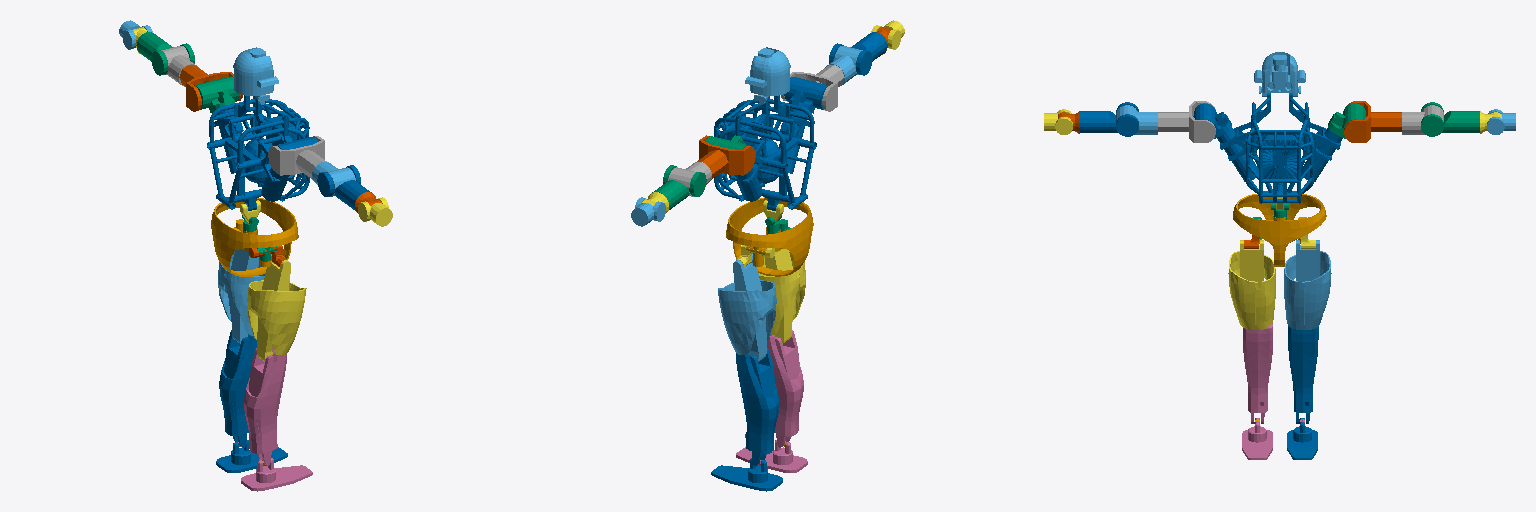
--- What the picture shows (computed from the rendered views, not written in the file) ---
3 views of the same robot in one strip: view 1: azimuth 30°, elevation 25°; view 2: azimuth 150°, elevation 25°; view 3: azimuth 270°, elevation 25° (orthographic).
Model drc_skeleton with 37 links and 36 joints (36 fixed), rooted at pelvis, posed every joint at zero.
Visible links, largest first — view 1: utorso, r_uleg, r_lleg, pelvis, l_lleg, l_uleg, head, r_scap, r_foot, l_clav, l_larm, l_foot (+5 smaller); view 2: utorso, l_uleg, l_lleg, pelvis, r_lleg, r_uleg, head, l_scap, l_foot, r_larm, r_clav, r_scap (+5 smaller); view 3: utorso, l_uleg, r_uleg, pelvis, r_lleg, l_lleg, head, r_scap, l_scap, l_larm, r_larm, r_foot (+7 smaller).
Link boxes in pixels (x1,y1,x2,y2): utorso: [207, 95, 309, 210]; r_uleg: [247, 254, 306, 361]; r_lleg: [244, 348, 286, 465]; pelvis: [211, 198, 298, 276]; l_lleg: [219, 330, 256, 447]; l_uleg: [218, 249, 264, 343]; head: [233, 47, 278, 104]; r_scap: [268, 136, 326, 179]; r_foot: [241, 458, 312, 491]; l_clav: [194, 76, 239, 112]; l_larm: [136, 32, 194, 75]; l_foot: [216, 440, 287, 472]; utorso: [714, 95, 816, 210]; l_uleg: [718, 254, 776, 361]; l_lleg: [736, 348, 779, 465]; pelvis: [726, 197, 813, 276]; r_lleg: [767, 330, 803, 447]; r_uleg: [759, 249, 805, 343]; head: [745, 47, 790, 104]; l_scap: [697, 135, 755, 179]; l_foot: [711, 458, 782, 491]; r_larm: [829, 32, 886, 75]; r_clav: [784, 77, 829, 113]; r_scap: [781, 65, 844, 111]; utorso: [1217, 93, 1342, 203]; l_uleg: [1284, 240, 1331, 329]; r_uleg: [1228, 240, 1275, 329]; pelvis: [1233, 194, 1326, 266]; r_lleg: [1243, 324, 1272, 423]; l_lleg: [1288, 325, 1318, 423]; head: [1254, 52, 1305, 96]; r_scap: [1158, 101, 1215, 142]; l_scap: [1344, 101, 1401, 142]; l_larm: [1421, 102, 1479, 136]; r_larm: [1080, 102, 1138, 136]; r_foot: [1242, 418, 1272, 459].
Bounding box of the posed robot: 0.3285 × 1.86 × 1.69 m (x, y, z).
29 mesh visuals loaded from 29 distinct referenced files (29 Collada DAE).

robot.urdf — drc_skeleton:
<robot name="drc_skeleton">
    <link name="pelvis">
        <inertial>
            <mass value="14.2529" />
            <origin xyz="0.0111 0 0.0271" rpy="0 -0 0" />
            <inertia ixx="0.1244" ixy="0.0008" ixz="-0.0007" iyy="0.0958" iyz="-0.0005" izz="0.1167" />
        </inertial>
        <visual>
            <origin xyz="0 0 0" rpy="0 -0 0" />
            <geometry>
                <mesh filename="package://mit_robot/meshes/pelvis.dae" scale="1 1 1" />
            </geometry>
        </visual>
    </link>
    <link name="head">
        <inertial>
            <mass value="2.6" />
            <origin xyz="-0.004 0 0.056" rpy="0 -0 0" />
            <inertia ixx="0.009" ixy="0" ixz="0" iyy="0.006" iyz="0" izz="0.007" />
        </inertial>
        <visual>
            <origin xyz="0 0 0" rpy="0 -0 0" />
            <geometry>
                <mesh filename="package://mit_robot/meshes/head.dae" scale="1 1 1" />
            </geometry>
        </visual>
    </link>
    <link name="l_clav">
        <inertial>
            <mass value="2.369" />
            <origin xyz="0.014 0.058 0.029" rpy="0 -0 0" />
            <inertia ixx="0.004" ixy="0.001" ixz="0" iyy="0.006" iyz="0" izz="0.007" />
        </inertial>
        <visual>
            <origin xyz="0 0 0" rpy="0 -0 0" />
            <geometry>
                <mesh filename="package://mit_robot/meshes/l_clav.dae" scale="1 1 1" />
            </geometry>
        </visual>
    </link>
    <link name="l_farm">
        <inertial>
            <mass value="0.981" />
            <origin xyz="0 0.041 0" rpy="0 -0 0" />
            <inertia ixx="0.003" ixy="0" ixz="0" iyy="0.001" iyz="0" izz="0.003" />
        </inertial>
        <visual>
            <origin xyz="0 0 0" rpy="0 -0 0" />
            <geometry>
                <mesh filename="package://mit_robot/meshes/l_farm.dae" scale="1 1 1" />
            </geometry>
        </visual>
    </link>
    <link name="l_foot">
        <inertial>
            <mass value="1.634" />
            <origin xyz="0.027 0 -0.067" rpy="0 -0 0" />
            <inertia ixx="0.002" ixy="0" ixz="0" iyy="0.007" iyz="0" izz="0.008" />
        </inertial>
        <visual>
            <origin xyz="0 0 0" rpy="0 -0 0" />
            <geometry>
                <mesh filename="package://mit_robot/meshes/l_foot.dae" scale="1 1 1" />
            </geometry>
        </visual>
    </link>
    <link name="l_foot_c1">   
	    <inertial>
            <mass value="0.001" />
            <origin xyz="0 0 0" rpy="0 0 0" />
            <inertia ixx="0.001" ixy="0" ixz="0" iyy="0.001" iyz="0" izz="0.001" />
        </inertial>
        <visual>
	  	  <origin rpy="0 0 0" xyz="0 0 0"/>
	  	  <geometry>
	    	<sphere radius="0.001"/>
	  	  </geometry>
		</visual>
        <collision>
	  	  <origin rpy="0 0 0" xyz="0 0 0"/>
	  	  <geometry>
	    	<sphere radius="0.001"/>
	  	  </geometry>
		</collision>
	</link>
    <link name="l_foot_c2">   
	    <inertial>
            <mass value="0.001" />
            <origin xyz="0 0 0" rpy="0 0 0" />
            <inertia ixx="0.001" ixy="0" ixz="0" iyy="0.001" iyz="0" izz="0.001" />
        </inertial>
        <visual>
	  	  <origin rpy="0 0 0" xyz="0 0 0"/>
	  	  <geometry>
	    	<sphere radius="0.001"/>
	  	  </geometry>
		</visual>
        <collision>
	  	  <origin rpy="0 0 0" xyz="0 0 0"/>
	  	  <geometry>
	    	<sphere radius="0.001"/>
	  	  </geometry>
		</collision>
	</link>
    <link name="l_foot_c3">   
	    <inertial>
            <mass value="0.001" />
            <origin xyz="0 0 0" rpy="0 0 0" />
            <inertia ixx="0.001" ixy="0" ixz="0" iyy="0.001" iyz="0" izz="0.001" />
        </inertial>
        <visual>
	  	  <origin rpy="0 0 0" xyz="0 0 0"/>
	  	  <geometry>
	    	<sphere radius="0.001"/>
	  	  </geometry>
		</visual>
        <collision>
	  	  <origin rpy="0 0 0" xyz="0 0 0"/>
	  	  <geometry>
	    	<sphere radius="0.001"/>
	  	  </geometry>
		</collision>
	</link>
    <link name="l_foot_c4">   
	    <inertial>
            <mass value="0.001" />
            <origin xyz="0 0 0" rpy="0 0 0" />
            <inertia ixx="0.001" ixy="0" ixz="0" iyy="0.001" iyz="0" izz="0.001" />
        </inertial>
        <visual>
	  	  <origin rpy="0 0 0" xyz="0 0 0"/>
	  	  <geometry>
	    	<sphere radius="0.001"/>
	  	  </geometry>
		</visual>
        <collision>
	  	  <origin rpy="0 0 0" xyz="0 0 0"/>
	  	  <geometry>
	    	<sphere radius="0.001"/>
	  	  </geometry>
		</collision>
	</link>
    <link name="l_hand">
        <inertial>
            <mass value="2.263" />
            <origin xyz="0 0.093 0" rpy="0 -0 0" />
            <inertia ixx="0.01" ixy="0" ixz="0" iyy="0.002" iyz="0" izz="0.01" />
        </inertial>
        <visual>
            <origin xyz="0 0 0" rpy="0 -0 0" />
            <geometry>
                <mesh filename="package://mit_robot/meshes/l_hand.dae" scale="1 1 1" />
            </geometry>
        </visual>
    </link>
    <link name="l_larm">
        <inertial>
            <mass value="2.148" />
            <origin xyz="-0.003 0.099 -0.014" rpy="0 -0 0" />
            <inertia ixx="0.005" ixy="0" ixz="0" iyy="0.003" iyz="0" izz="0.006" />
        </inertial>
        <visual>
            <origin xyz="0 0 0" rpy="0 -0 0" />
            <geometry>
                <mesh filename="package://mit_robot/meshes/l_larm.dae" scale="1 1 1" />
            </geometry>
        </visual>
    </link>
    <link name="l_lglut">
        <inertial>
            <mass value="0.69" />
            <origin xyz="0.0133341 0.0170484 -0.0312052" rpy="0 -0 0" />
            <inertia ixx="0.000691326" ixy="-2.24344e-05" ixz="2.50508e-06" iyy="0.00126856" iyz="0.000137862" izz="0.00106487" />
        </inertial>
        <visual>
            <origin xyz="0 0 0" rpy="0 -0 0" />
            <geometry>
                <mesh filename="package://mit_robot/meshes/l_lglut.dae" scale="1 1 1" />
            </geometry>
        </visual>
    </link>
    <link name="l_lleg">
        <inertial>
            <mass value="4.367" />
            <origin xyz="0.001 0 -0.187" rpy="0 -0 0" />
            <inertia ixx="0.077" ixy="0" ixz="-0.003" iyy="0.076" iyz="0" izz="0.01" />
        </inertial>
        <visual>
            <origin xyz="0 0 0" rpy="0 -0 0" />
            <geometry>
                <mesh filename="package://mit_robot/meshes/l_lleg.dae" scale="1 1 1" />
            </geometry>
        </visual>
    </link>
    <link name="l_scap">
        <inertial>
            <mass value="2.707" />
            <origin xyz="-0.002 0.108 0" rpy="0 -0 0" />
            <inertia ixx="0.01" ixy="0" ixz="0" iyy="0.005" iyz="0" izz="0.013" />
        </inertial>
        <visual>
            <origin xyz="0 0 0" rpy="0 -0 0" />
            <geometry>
                <mesh filename="package://mit_robot/meshes/l_scap.dae" scale="1 1 1" />
            </geometry>
        </visual>
    </link>
    <link name="l_talus">
        <inertial>
            <mass value="0.1" />
            <origin xyz="0 0 0" rpy="0 -0 0" />
            <inertia ixx="1.01674e-05" ixy="0" ixz="0" iyy="8.42775e-06" iyz="0" izz="1.30101e-05" />
        </inertial>
        <visual>
            <origin xyz="0 0 0" rpy="0 -0 0" />
            <geometry>
                <mesh filename="package://mit_robot/meshes/l_talus.dae" scale="1 1 1" />
            </geometry>
        </visual>
    </link>
    <link name="l_uarm">
        <inertial>
            <mass value="1.881" />
            <origin xyz="0.007 0.114 0.008" rpy="0 -0 0" />
            <inertia ixx="0.002" ixy="0" ixz="0" iyy="0.003" iyz="0" izz="0.003" />
        </inertial>
        <visual>
            <origin xyz="0 0 0" rpy="0 -0 0" />
            <geometry>
                <mesh filename="package://mit_robot/meshes/l_uarm.dae" scale="1 1 1" />
            </geometry>
        </visual>
    </link>
    <link name="l_uglut">
        <inertial>
            <mass value="0.5166" />
            <origin xyz="0.00529262 -0.00344732 0.00313046" rpy="0 -0 0" />
            <inertia ixx="0.00074276" ixy="-3.79607e-08" ixz="-2.79549e-05" iyy="0.000688179" iyz="-3.2735e-08" izz="0.00041242" />
        </inertial>
        <visual>
            <origin xyz="0 0 0" rpy="0 -0 0" />
            <geometry>
                <mesh filename="package://mit_robot/meshes/l_uglut.dae" scale="1 1 1" />
            </geometry>
        </visual>
    </link>
    <link name="l_uleg">
        <inertial>
            <mass value="7.34" />
            <origin xyz="0 0 -0.21" rpy="0 -0 0" />
            <inertia ixx="0.09" ixy="0" ixz="0" iyy="0.09" iyz="0" izz="0.02" />
        </inertial>
        <visual>
            <origin xyz="0 0 0" rpy="0 -0 0" />
            <geometry>
                <mesh filename="package://mit_robot/meshes/l_uleg.dae" scale="1 1 1" />
            </geometry>
        </visual>
    </link>
    <link name="ltorso">
        <inertial>
            <mass value="1.92" />
            <origin xyz="-0.0112984 -3.15366e-06 0.0746835" rpy="0 -0 0" />
            <inertia ixx="0.0039092" ixy="-5.04491e-08" ixz="-0.000342157" iyy="0.00341694" iyz="4.87119e-07" izz="0.00174492" />
        </inertial>
        <visual>
            <origin xyz="0 0 0" rpy="0 -0 0" />
            <geometry>
                <mesh filename="package://mit_robot/meshes/ltorso.dae" scale="1 1 1" />
            </geometry>
        </visual>
    </link>
    <link name="mtorso">
        <inertial>
            <mass value="0.55" />
            <origin xyz="-0.00816266 -0.0131245 0.0305974" rpy="0 -0 0" />
            <inertia ixx="0.000454181" ixy="-6.10764e-05" ixz="3.94009e-05" iyy="0.000483282" iyz="5.27463e-05" izz="0.000444215" />
        </inertial>
        <visual>
            <origin xyz="0 0 0" rpy="0 -0 0" />
            <geometry>
                <mesh filename="package://mit_robot/meshes/mtorso.dae" scale="1 1 1" />
            </geometry>
        </visual>
    </link>
    <link name="r_clav">
        <inertial>
            <mass value="2.369" />
            <origin xyz="0.014 -0.058 0.029" rpy="0 -0 0" />
            <inertia ixx="0.004" ixy="-0.001" ixz="0" iyy="0.006" iyz="0" izz="0.007" />
        </inertial>
        <visual>
            <origin xyz="0 0 0" rpy="0 -0 0" />
            <geometry>
                <mesh filename="package://mit_robot/meshes/r_clav.dae" scale="1 1 1" />
            </geometry>
        </visual>
    </link>
    <link name="r_farm">
        <inertial>
            <mass value="0.981" />
            <origin xyz="0 -0.041 0" rpy="0 -0 0" />
            <inertia ixx="0.003" ixy="0" ixz="0" iyy="0.001" iyz="0" izz="0.003" />
        </inertial>
        <visual>
            <origin xyz="0 0 0" rpy="0 -0 0" />
            <geometry>
                <mesh filename="package://mit_robot/meshes/r_farm.dae" scale="1 1 1" />
            </geometry>
        </visual>
    </link>
    <link name="r_foot">
        <inertial>
            <mass value="1.634" />
            <origin xyz="0.027 0 -0.067" rpy="0 -0 0" />
            <inertia ixx="0.002" ixy="0" ixz="0" iyy="0.007" iyz="0" izz="0.008" />
        </inertial>
        <visual>
            <origin xyz="0 0 0" rpy="0 -0 0" />
            <geometry>
                <mesh filename="package://mit_robot/meshes/r_foot.dae" scale="1 1 1" />
            </geometry>
        </visual>
    </link>
    <link name="r_foot_c1">   
	    <inertial>
            <mass value="0.001" />
            <origin xyz="0 0 0" rpy="0 0 0" />
            <inertia ixx="0.001" ixy="0" ixz="0" iyy="0.001" iyz="0" izz="0.001" />
        </inertial>
        <visual>
	  	  <origin rpy="0 0 0" xyz="0 0 0"/>
	  	  <geometry>
	    	<sphere radius="0.001"/>
	  	  </geometry>
		</visual>
        <collision>
	  	  <origin rpy="0 0 0" xyz="0 0 0"/>
	  	  <geometry>
	    	<sphere radius="0.001"/>
	  	  </geometry>
		</collision>
	</link>
    <link name="r_foot_c2">   
	    <inertial>
            <mass value="0.001" />
            <origin xyz="0 0 0" rpy="0 0 0" />
            <inertia ixx="0.001" ixy="0" ixz="0" iyy="0.001" iyz="0" izz="0.001" />
        </inertial>
        <visual>
	  	  <origin rpy="0 0 0" xyz="0 0 0"/>
	  	  <geometry>
	    	<sphere radius="0.001"/>
	  	  </geometry>
		</visual>
        <collision>
	  	  <origin rpy="0 0 0" xyz="0 0 0"/>
	  	  <geometry>
	    	<sphere radius="0.001"/>
	  	  </geometry>
		</collision>
	</link>
    <link name="r_foot_c3">   
	    <inertial>
            <mass value="0.001" />
            <origin xyz="0 0 0" rpy="0 0 0" />
            <inertia ixx="0.001" ixy="0" ixz="0" iyy="0.001" iyz="0" izz="0.001" />
        </inertial>
        <visual>
	  	  <origin rpy="0 0 0" xyz="0 0 0"/>
	  	  <geometry>
	    	<sphere radius="0.001"/>
	  	  </geometry>
		</visual>
        <collision>
	  	  <origin rpy="0 0 0" xyz="0 0 0"/>
	  	  <geometry>
	    	<sphere radius="0.001"/>
	  	  </geometry>
		</collision>
	</link>
    <link name="r_foot_c4">   
	    <inertial>
            <mass value="0.001" />
            <origin xyz="0 0 0" rpy="0 0 0" />
            <inertia ixx="0.001" ixy="0" ixz="0" iyy="0.001" iyz="0" izz="0.001" />
        </inertial>
        <visual>
	  	  <origin rpy="0 0 0" xyz="0 0 0"/>
	  	  <geometry>
	    	<sphere radius="0.001"/>
	  	  </geometry>
		</visual>
        <collision>
	  	  <origin rpy="0 0 0" xyz="0 0 0"/>
	  	  <geometry>
	    	<sphere radius="0.001"/>
	  	  </geometry>
		</collision>
	</link>
    <link name="r_hand">
        <inertial>
            <mass value="2.263" />
            <origin xyz="0 -0.093 0" rpy="0 -0 0" />
            <inertia ixx="0.01" ixy="0" ixz="0" iyy="0.002" iyz="0" izz="0.01" />
        </inertial>
        <visual>
            <origin xyz="0 0 0" rpy="0 -0 0" />
            <geometry>
                <mesh filename="package://mit_robot/meshes/r_hand.dae" scale="1 1 1" />
            </geometry>
        </visual>
    </link>
    <link name="r_larm">
        <inertial>
            <mass value="2.148" />
            <origin xyz="-0.003 -0.099 -0.014" rpy="0 -0 0" />
            <inertia ixx="0.005" ixy="0" ixz="0" iyy="0.003" iyz="0" izz="0.006" />
        </inertial>
        <visual>
            <origin xyz="0 0 0" rpy="0 -0 0" />
            <geometry>
                <mesh filename="package://mit_robot/meshes/r_larm.dae" scale="1 1 1" />
            </geometry>
        </visual>
    </link>
    <link name="r_lglut">
        <inertial>
            <mass value="0.69" />
            <origin xyz="0.0133341 -0.0170484 -0.0312052" rpy="0 -0 0" />
            <inertia ixx="0.000691326" ixy="2.24344e-05" ixz="2.50508e-06" iyy="0.00126856" iyz="-0.000137862" izz="0.00106487" />
        </inertial>
        <visual>
            <origin xyz="0 0 0" rpy="0 -0 0" />
            <geometry>
                <mesh filename="package://mit_robot/meshes/r_lglut.dae" scale="1 1 1" />
            </geometry>
        </visual>
    </link>
    <link name="r_lleg">
        <inertial>
            <mass value="4.367" />
            <origin xyz="0.001 0 -0.187" rpy="0 -0 0" />
            <inertia ixx="0.077" ixy="-0" ixz="-0.003" iyy="0.076" iyz="-0" izz="0.01" />
        </inertial>
        <visual>
            <origin xyz="0 0 0" rpy="0 -0 0" />
            <geometry>
                <mesh filename="package://mit_robot/meshes/r_lleg.dae" scale="1 1 1" />
            </geometry>
        </visual>
    </link>
    <link name="r_scap">
        <inertial>
            <mass value="2.707" />
            <origin xyz="-0.002 -0.108 0" rpy="0 -0 0" />
            <inertia ixx="0.01" ixy="0" ixz="0" iyy="0.005" iyz="0" izz="0.013" />
        </inertial>
        <visual>
            <origin xyz="0 0 0" rpy="0 -0 0" />
            <geometry>
                <mesh filename="package://mit_robot/meshes/r_scap.dae" scale="1 1 1" />
            </geometry>
        </visual>
    </link>
    <link name="r_talus">
        <inertial>
            <mass value="0.1" />
            <origin xyz="0 0 0" rpy="0 -0 0" />
            <inertia ixx="1.01674e-05" ixy="0" ixz="0" iyy="8.42775e-06" iyz="0" izz="1.30101e-05" />
        </inertial>
        <visual>
            <origin xyz="0 0 0" rpy="0 -0 0" />
            <geometry>
                <mesh filename="package://mit_robot/meshes/r_talus.dae" scale="1 1 1" />
            </geometry>
        </visual>
    </link>
    <link name="r_uarm">
        <inertial>
            <mass value="1.881" />
            <origin xyz="0.007 -0.114 0.008" rpy="0 -0 0" />
            <inertia ixx="0.002" ixy="0" ixz="0" iyy="0.003" iyz="0" izz="0.003" />
        </inertial>
        <visual>
            <origin xyz="0 0 0" rpy="0 -0 0" />
            <geometry>
                <mesh filename="package://mit_robot/meshes/r_uarm.dae" scale="1 1 1" />
            </geometry>
        </visual>
    </link>
    <link name="r_uglut">
        <inertial>
            <mass value="0.5166" />
            <origin xyz="0.00529262 0.00344732 0.00313046" rpy="0 -0 0" />
            <inertia ixx="0.00074276" ixy="3.79607e-08" ixz="-2.79549e-05" iyy="0.000688179" iyz="3.2735e-08" izz="0.00041242" />
        </inertial>
        <visual>
            <origin xyz="0 0 0" rpy="0 -0 0" />
            <geometry>
                <mesh filename="package://mit_robot/meshes/r_uglut.dae" scale="1 1 1" />
            </geometry>
        </visual>
    </link>
    <link name="r_uleg">
        <inertial>
            <mass value="7.34" />
            <origin xyz="0 0 -0.21" rpy="0 -0 0" />
            <inertia ixx="0.09" ixy="0" ixz="0" iyy="0.09" iyz="0" izz="0.02" />
        </inertial>
        <visual>
            <origin xyz="0 0 0" rpy="0 -0 0" />
            <geometry>
                <mesh filename="package://mit_robot/meshes/r_uleg.dae" scale="1 1 1" />
            </geometry>
        </visual>
    </link>
    <link name="utorso">
        <inertial>
            <mass value="18.484" />
            <origin xyz="0.02 -0.001 0.211" rpy="0 -0 0" />
            <inertia ixx="0.395" ixy="0" ixz="0.083" iyy="1.089" iyz="-0.003" izz="0.327" />
        </inertial>
        <visual>
            <origin xyz="0 0 0" rpy="0 -0 0" />
            <geometry>
                <mesh filename="package://mit_robot/meshes/utorso.dae" scale="1 1 1" />
            </geometry>
        </visual>
    </link>
    <joint name="back_lbz" type="fixed">
        <origin xyz="-0.0125 0 0" rpy="0 -0 0" />
        <axis xyz="0 0 1" />
        <parent link="pelvis" />
        <child link="ltorso" />
        <dynamics damping="0.1" friction="0" />
        <limit effort="124.016" velocity="12" lower="-0.610865" upper="0.610865" />
        <safety_controller k_position="100" k_velocity="100" soft_lower_limit="-10.6109" soft_upper_limit="10.6109" />
    </joint>
    <joint name="back_mby" type="fixed">
        <origin xyz="0 0 0.09" rpy="0 -0 0" />
        <axis xyz="0 1 0" />
        <parent link="ltorso" />
        <child link="mtorso" />
        <dynamics damping="0.1" friction="0" />
        <limit effort="206.843" velocity="12" lower="-1.2" upper="1.28" />
        <safety_controller k_position="100" k_velocity="100" soft_lower_limit="-11.2" soft_upper_limit="11.28" />
    </joint>
    <joint name="back_ubx" type="fixed">
        <origin xyz="0 0 0.05" rpy="0 -0 0" />
        <axis xyz="1 0 0" />
        <parent link="mtorso" />
        <child link="utorso" />
        <dynamics damping="0.1" friction="0" />
        <limit effort="94.91" velocity="12" lower="-0.790809" upper="0.790809" />
        <safety_controller k_position="100" k_velocity="100" soft_lower_limit="-10.7908" soft_upper_limit="10.7908" />
    </joint>
    <joint name="l_arm_elx" type="fixed">
        <origin xyz="0 0.121 0.013" rpy="0 -0 0" />
        <axis xyz="1 0 0" />
        <parent link="l_uarm" />
        <child link="l_larm" />
        <dynamics damping="0.1" friction="0" />
        <limit effort="114" velocity="12" lower="0" upper="2.35619" />
        <safety_controller k_position="100" k_velocity="100" soft_lower_limit="-10" soft_upper_limit="12.3562" />
    </joint>
    <joint name="l_arm_ely" type="fixed">
        <origin xyz="0 0.185 0" rpy="0 -0 0" />
        <axis xyz="0 1 0" />
        <parent link="l_scap" />
        <child link="l_uarm" />
        <dynamics damping="0.1" friction="0" />
        <limit effort="114" velocity="12" lower="0" upper="3.14159" />
        <safety_controller k_position="100" k_velocity="100" soft_lower_limit="-10" soft_upper_limit="13.1416" />
    </joint>
    <joint name="l_arm_mwx" type="fixed">
        <origin xyz="0 0.058 0" rpy="0 -0 0" />
        <axis xyz="1 0 0" />
        <parent link="l_farm" />
        <child link="l_hand" />
        <dynamics damping="0.1" friction="0" />
        <limit effort="60" velocity="12" lower="-0.436" upper="1.571" />
        <safety_controller k_position="100" k_velocity="100" soft_lower_limit="-10.436" soft_upper_limit="11.571" />
    </joint>
    <joint name="l_arm_shx" type="fixed">
        <origin xyz="0 0.075 0.036" rpy="0 -0 0" />
        <axis xyz="1 0 0" />
        <parent link="l_clav" />
        <child link="l_scap" />
        <dynamics damping="0.1" friction="0" />
        <limit effort="170" velocity="12" lower="-1.39626" upper="1.74533" />
        <safety_controller k_position="100" k_velocity="100" soft_lower_limit="-11.3963" soft_upper_limit="11.7453" />
    </joint>
    <joint name="l_arm_usy" type="fixed">
        <origin xyz="0.024 0.221 0.289" rpy="0 -0 0" />
        <axis xyz="0 0.5 0.866025" />
        <parent link="utorso" />
        <child link="l_clav" />
        <dynamics damping="0.1" friction="0" />
        <limit effort="212" velocity="12" lower="-1.9635" upper="1.9635" />
        <safety_controller k_position="100" k_velocity="100" soft_lower_limit="-11.9635" soft_upper_limit="11.9635" />
    </joint>
    <joint name="l_arm_uwy" type="fixed">
        <origin xyz="0 0.188 -0.013" rpy="0 -0 0" />
        <axis xyz="0 1 0" />
        <parent link="l_larm" />
        <child link="l_farm" />
        <dynamics damping="0.1" friction="0" />
        <limit effort="114" velocity="12" lower="-1.571" upper="1.571" />
        <safety_controller k_position="100" k_velocity="100" soft_lower_limit="-11.571" soft_upper_limit="11.571" />
    </joint>
    <joint name="l_leg_kny" type="fixed">
        <origin xyz="-0.05 0 -0.374" rpy="0 -0 0" />
        <axis xyz="0 1 0" />
        <parent link="l_uleg" />
        <child link="l_lleg" />
        <dynamics damping="0.1" friction="0" />
        <limit effort="220" velocity="12" lower="0" upper="2.45" />
        <safety_controller k_position="100" k_velocity="100" soft_lower_limit="-10" soft_upper_limit="12.45" />
    </joint>
    <joint name="l_leg_lax" type="fixed">
        <origin xyz="0 0 0" rpy="0 -0 0" />
        <axis xyz="1 0 0" />
        <parent link="l_talus" />
        <child link="l_foot" />
        <dynamics damping="0.1" friction="0" />
        <limit effort="90" velocity="12" lower="-0.436" upper="0.436" />
        <safety_controller k_position="100" k_velocity="100" soft_lower_limit="-10.436" soft_upper_limit="10.436" />
    </joint>
    <joint name="l_leg_lhy" type="fixed">
        <origin xyz="0.05 0 -0.05" rpy="0 -0 0" />
        <axis xyz="0 1 0" />
        <parent link="l_lglut" />
        <child link="l_uleg" />
        <dynamics damping="0.1" friction="0" />
        <limit effort="260" velocity="12" lower="-1.75" upper="0.524" />
        <safety_controller k_position="100" k_velocity="100" soft_lower_limit="-11.75" soft_upper_limit="10.524" />
    </joint>
    <joint name="l_leg_mhx" type="fixed">
        <origin xyz="0 0 0" rpy="0 -0 0" />
        <axis xyz="1 0 0" />
        <parent link="l_uglut" />
        <child link="l_lglut" />
        <dynamics damping="0.1" friction="0" />
        <limit effort="180" velocity="12" lower="-0.47" upper="0.495" />
        <safety_controller k_position="100" k_velocity="100" soft_lower_limit="-10.47" soft_upper_limit="10.495" />
    </joint>
    <joint name="l_leg_uay" type="fixed">
        <origin xyz="0 0 -0.422" rpy="0 -0 0" />
        <axis xyz="0 1 0" />
        <parent link="l_lleg" />
        <child link="l_talus" />
        <dynamics damping="0.1" friction="0" />
        <limit effort="220" velocity="12" lower="-0.698" upper="0.698" />
        <safety_controller k_position="100" k_velocity="100" soft_lower_limit="-10.698" soft_upper_limit="10.698" />
    </joint>
    <joint name="l_leg_uhz" type="fixed">
        <origin xyz="0 0.089 0" rpy="0 -0 0" />
        <axis xyz="0 0 1" />
        <parent link="pelvis" />
        <child link="l_uglut" />
        <dynamics damping="0.1" friction="0" />
        <limit effort="110" velocity="12" lower="-0.32" upper="1.14" />
        <safety_controller k_position="100" k_velocity="100" soft_lower_limit="-10.32" soft_upper_limit="11.14" />
    </joint>
    <joint name="neck_ay" type="fixed">
        <origin xyz="0.011 0 0.44" rpy="0 -0 0" />
        <axis xyz="0 1 0" />
        <parent link="utorso" />
        <child link="head" />
        <dynamics damping="0.1" friction="0" />
        <limit effort="5" velocity="12" lower="-0.785398" upper="0.785398" />
        <safety_controller k_position="100" k_velocity="100" soft_lower_limit="-10.7854" soft_upper_limit="10.7854" />
    </joint>
    <joint name="r_arm_elx" type="fixed">
        <origin xyz="0 -0.121 0.013" rpy="0 -0 0" />
        <axis xyz="1 0 0" />
        <parent link="r_uarm" />
        <child link="r_larm" />
        <dynamics damping="0.1" friction="0" />
        <limit effort="114" velocity="12" lower="-2.35619" upper="0" />
        <safety_controller k_position="100" k_velocity="100" soft_lower_limit="-12.3562" soft_upper_limit="10" />
    </joint>
    <joint name="r_arm_ely" type="fixed">
        <origin xyz="0 -0.185 0" rpy="0 -0 0" />
        <axis xyz="0 1 0" />
        <parent link="r_scap" />
        <child link="r_uarm" />
        <dynamics damping="0.1" friction="0" />
        <limit effort="114" velocity="12" lower="0" upper="3.14159" />
        <safety_controller k_position="100" k_velocity="100" soft_lower_limit="-10" soft_upper_limit="13.1416" />
    </joint>
    <joint name="r_arm_mwx" type="fixed">
        <origin xyz="0 -0.058 0" rpy="0 -0 0" />
        <axis xyz="1 0 0" />
        <parent link="r_farm" />
        <child link="r_hand" />
        <dynamics damping="0.1" friction="0" />
        <limit effort="60" velocity="12" lower="-1.571" upper="0.436" />
        <safety_controller k_position="100" k_velocity="100" soft_lower_limit="-11.571" soft_upper_limit="10.436" />
    </joint>
    <joint name="r_arm_shx" type="fixed">
        <origin xyz="0 -0.075 0.036" rpy="0 -0 0" />
        <axis xyz="1 0 0" />
        <parent link="r_clav" />
        <child link="r_scap" />
        <dynamics damping="0.1" friction="0" />
        <limit effort="170" velocity="12" lower="-1.74533" upper="1.39626" />
        <safety_controller k_position="100" k_velocity="100" soft_lower_limit="-11.7453" soft_upper_limit="11.3963" />
    </joint>
    <joint name="r_arm_usy" type="fixed">
        <origin xyz="0.024 -0.221 0.289" rpy="0 -0 0" />
        <axis xyz="0 -0.5 0.866025" />
        <parent link="utorso" />
        <child link="r_clav" />
        <dynamics damping="0.1" friction="0" />
        <limit effort="212" velocity="12" lower="-1.9635" upper="1.9635" />
        <safety_controller k_position="100" k_velocity="100" soft_lower_limit="-11.9635" soft_upper_limit="11.9635" />
    </joint>
    <joint name="r_arm_uwy" type="fixed">
        <origin xyz="0 -0.188 -0.013" rpy="0 -0 0" />
        <axis xyz="0 1 0" />
        <parent link="r_larm" />
        <child link="r_farm" />
        <dynamics damping="0.1" friction="0" />
        <limit effort="114" velocity="12" lower="-1.571" upper="1.571" />
        <safety_controller k_position="100" k_velocity="100" soft_lower_limit="-11.571" soft_upper_limit="11.571" />
    </joint>
    <joint name="r_leg_kny" type="fixed">
        <origin xyz="-0.05 0 -0.374" rpy="0 -0 0" />
        <axis xyz="0 1 0" />
        <parent link="r_uleg" />
        <child link="r_lleg" />
        <dynamics damping="0.1" friction="0" />
        <limit effort="220" velocity="12" lower="0" upper="2.45" />
        <safety_controller k_position="100" k_velocity="100" soft_lower_limit="-10" soft_upper_limit="12.45" />
    </joint>
    <joint name="r_leg_lax" type="fixed">
        <origin xyz="0 0 0" rpy="0 -0 0" />
        <axis xyz="1 0 0" />
        <parent link="r_talus" />
        <child link="r_foot" />
        <dynamics damping="0.1" friction="0" />
        <limit effort="90" velocity="12" lower="-0.436" upper="0.436" />
        <safety_controller k_position="100" k_velocity="100" soft_lower_limit="-10.436" soft_upper_limit="10.436" />
    </joint>
    <joint name="r_leg_lhy" type="fixed">
        <origin xyz="0.05 0 -0.05" rpy="0 -0 0" />
        <axis xyz="0 1 0" />
        <parent link="r_lglut" />
        <child link="r_uleg" />
        <dynamics damping="0.1" friction="0" />
        <limit effort="260" velocity="12" lower="-1.745" upper="0.524" />
        <safety_controller k_position="100" k_velocity="100" soft_lower_limit="-11.745" soft_upper_limit="10.524" />
    </joint>
    <joint name="r_leg_mhx" type="fixed">
        <origin xyz="0 0 0" rpy="0 -0 0" />
        <axis xyz="1 0 0" />
        <parent link="r_uglut" />
        <child link="r_lglut" />
        <dynamics damping="0.1" friction="0" />
        <limit effort="180" velocity="12" lower="-0.495" upper="0.47" />
        <safety_controller k_position="100" k_velocity="100" soft_lower_limit="-10.495" soft_upper_limit="10.47" />
    </joint>
    <joint name="r_leg_uay" type="fixed">
        <origin xyz="0 0 -0.422" rpy="0 -0 0" />
        <axis xyz="0 1 0" />
        <parent link="r_lleg" />
        <child link="r_talus" />
        <dynamics damping="0.1" friction="0" />
        <limit effort="220" velocity="12" lower="-0.698" upper="0.698" />
        <safety_controller k_position="100" k_velocity="100" soft_lower_limit="-10.698" soft_upper_limit="10.698" />
    </joint>
    <joint name="r_leg_uhz" type="fixed">
        <origin xyz="0 -0.089 0" rpy="0 -0 0" />
        <axis xyz="0 0 1" />
        <parent link="pelvis" />
        <child link="r_uglut" />
        <dynamics damping="0.1" friction="0" />
        <limit effort="260" velocity="12" lower="-1.14" upper="0.32" />
        <safety_controller k_position="100" k_velocity="100" soft_lower_limit="-11.14" soft_upper_limit="10.32" />
    </joint>
    <joint name="r_foot_j1" type="fixed">
        <origin xyz="0.178 0.032 -0.080" rpy="0 0 0" />
        <parent link="r_foot" />
        <child link="r_foot_c1" />
    </joint>
    <joint name="r_foot_j2" type="fixed">
        <origin xyz="0.178 -0.032 -0.080" rpy="0 0 0" />
        <parent link="r_foot" />
        <child link="r_foot_c2" />
    </joint>
    <joint name="r_foot_j3" type="fixed">
        <origin xyz="-0.075 -0.047 -0.081" rpy="0 0 0" />
        <parent link="r_foot" />
        <child link="r_foot_c3" />
    </joint>
    <joint name="r_foot_j4" type="fixed">
        <origin xyz="-0.075 0.048 -0.081" rpy="0 0 0" />
        <parent link="r_foot" />
        <child link="r_foot_c4" />
    </joint>    
    <joint name="l_foot_j1" type="fixed">
        <origin xyz="0.178 0.032 -0.080" rpy="0 0 0" />
        <parent link="l_foot" />
        <child link="l_foot_c1" />
    </joint>
    <joint name="l_foot_j2" type="fixed">
        <origin xyz="0.178 -0.032 -0.080" rpy="0 0 0" />
        <parent link="l_foot" />
        <child link="l_foot_c2" />
    </joint>
    <joint name="l_foot_j3" type="fixed">
        <origin xyz="-0.075 -0.047 -0.081" rpy="0 0 0" />
        <parent link="l_foot" />
        <child link="l_foot_c3" />
    </joint>
    <joint name="l_foot_j4" type="fixed">
        <origin xyz="-0.075 0.048 -0.081" rpy="0 0 0" />
        <parent link="l_foot" />
        <child link="l_foot_c4" />
    </joint>
</robot>
